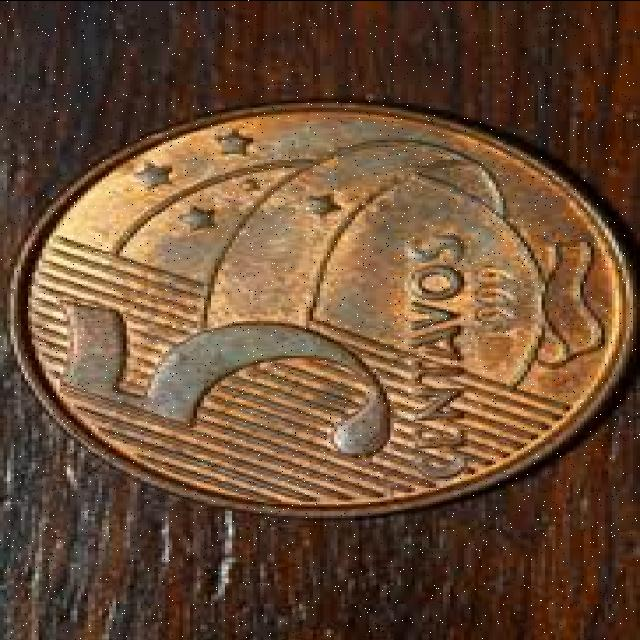5 cent: (6, 100, 626, 510)
